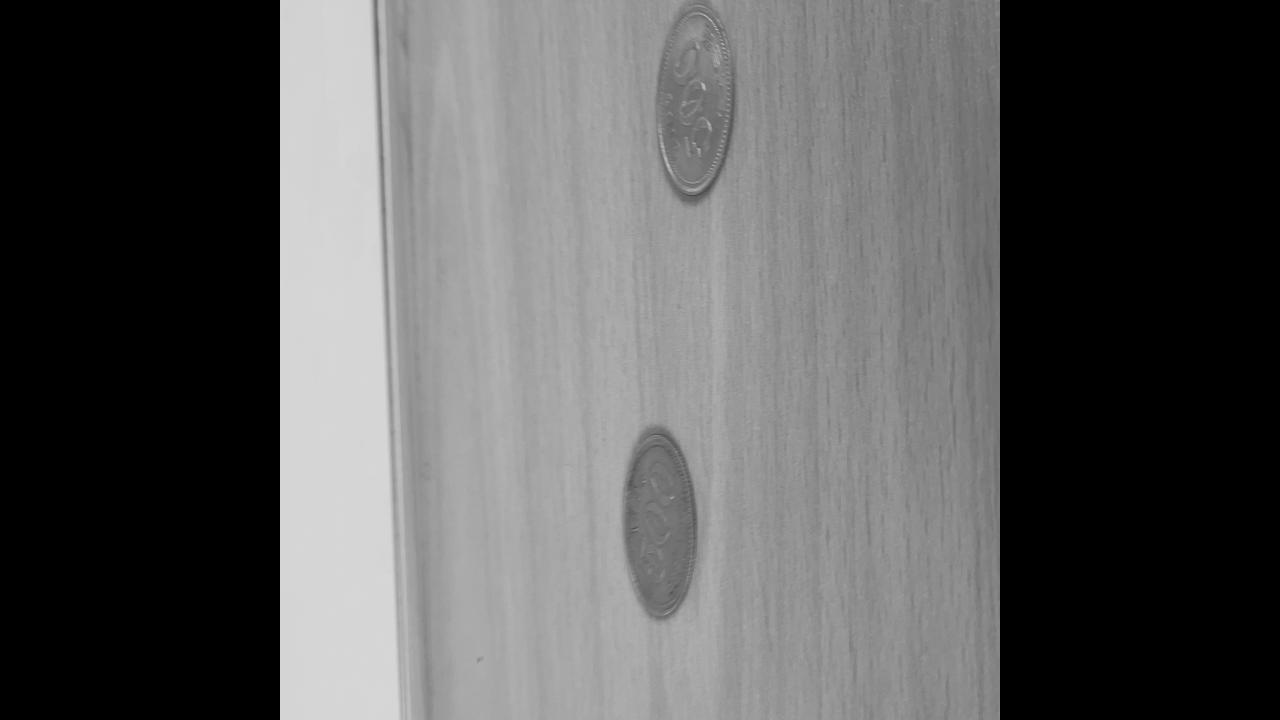coin: (654, 0, 736, 201), (621, 426, 699, 625)
